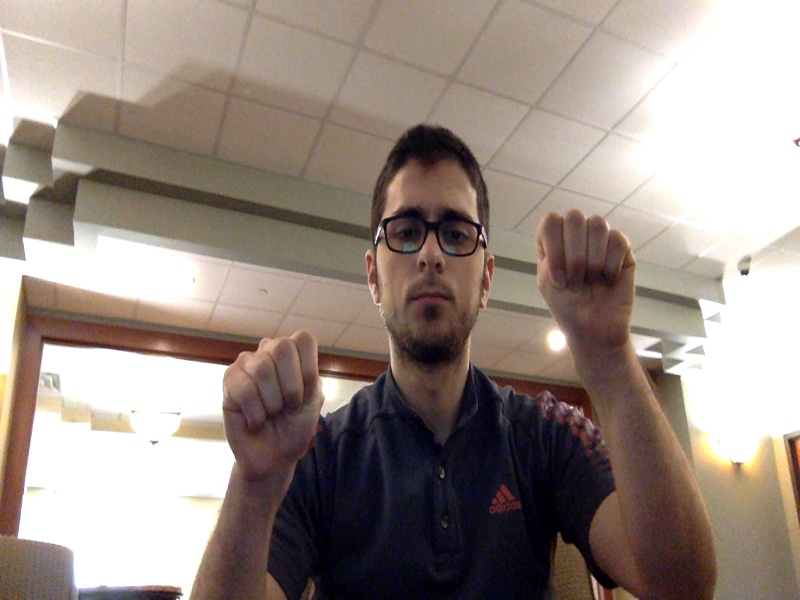0-hand: (223, 332, 325, 477), (536, 210, 635, 346)
